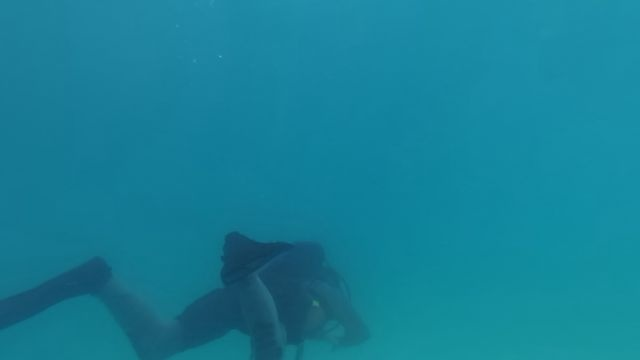Diver: (2, 236, 392, 356)
